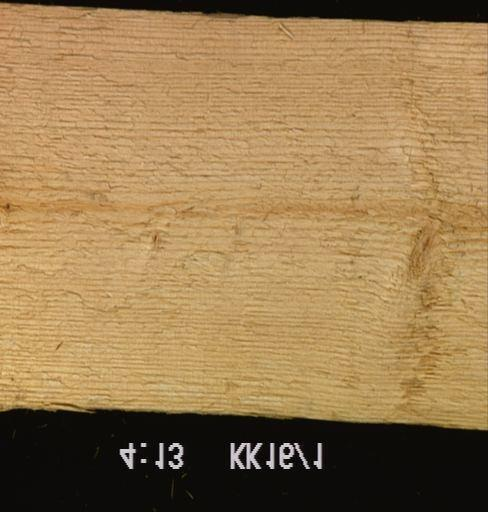small_knot: (149, 231, 159, 248), (3, 201, 11, 210)
split: (0, 400, 183, 413)
